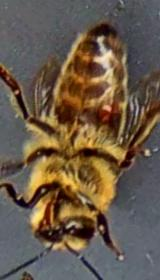varroa_mite: (92, 92, 118, 118)
